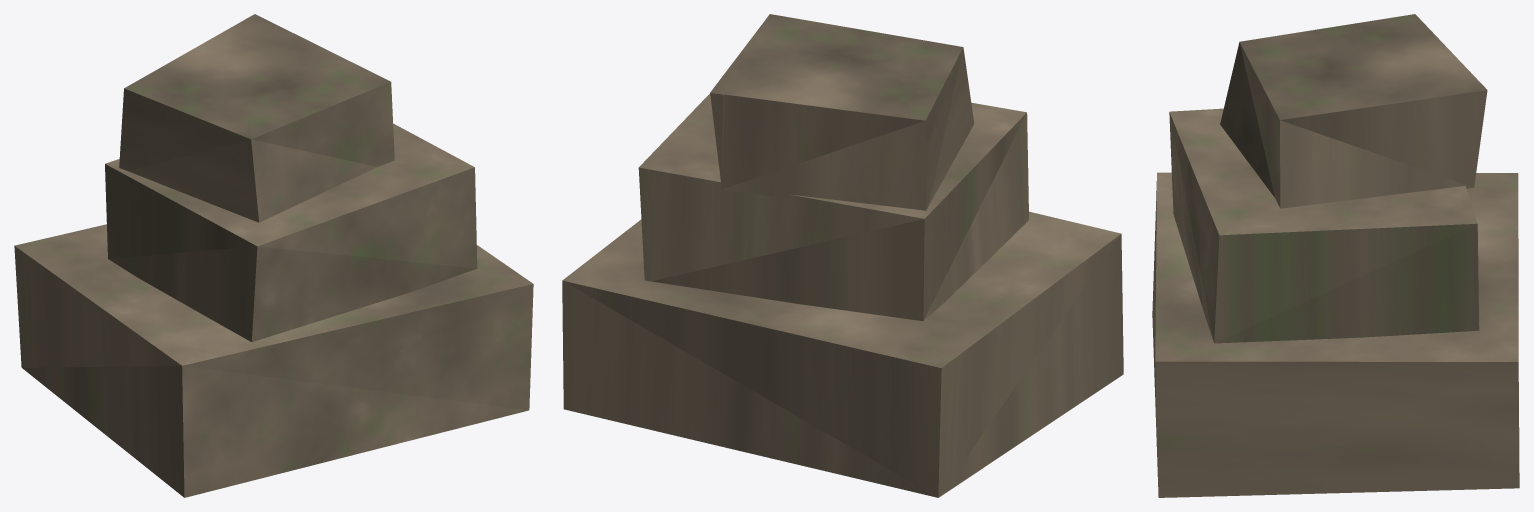
File: Rock_04_Terrace.fbx
3 views of the same model, side by side, from view 1: azimuth 30°, elevation 25°; view 2: azimuth 150°, elevation 25°; view 3: azimuth 270°, elevation 25° (orthographic). The views are drawn at different scales.
Visible parts, largest first — view 1: Rock_04_Terrace; view 2: Rock_04_Terrace; view 3: Rock_04_Terrace.
Part boxes in pixels (<box>): Rock_04_Terrace: <box>14,14,533,497</box>; Rock_04_Terrace: <box>562,14,1123,497</box>; Rock_04_Terrace: <box>1152,14,1519,497</box>.
Bounding box in the file's own units: 2.21 × 1.9 × 1.84.
Materials: 1 (1 with a texture image).
